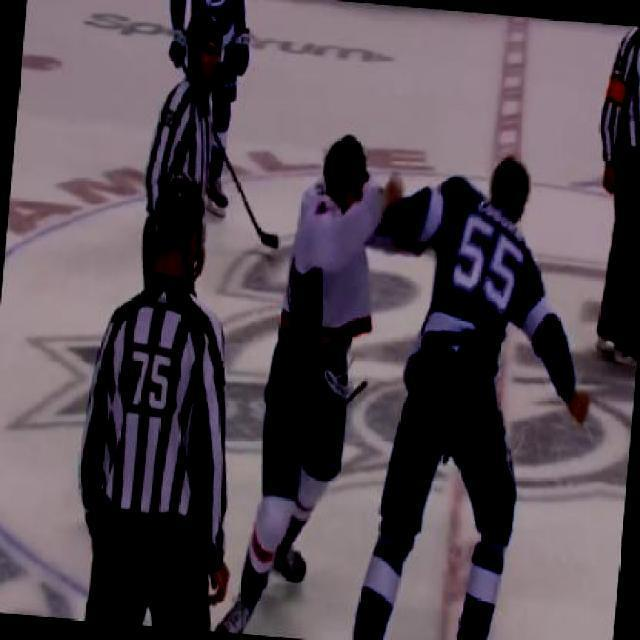fight: (243, 126, 599, 639)
